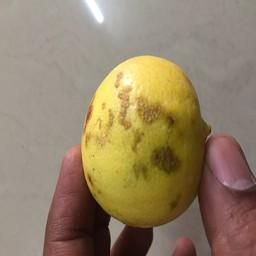Bad_lime: (76, 53, 205, 232)
